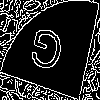G: (25, 25, 66, 82)
